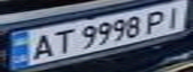8: (124, 12, 148, 39)
9: (75, 21, 100, 50), (93, 19, 115, 46), (109, 16, 130, 43)
A: (24, 30, 57, 61)
I: (160, 2, 190, 29)
P: (139, 8, 172, 35)
T: (45, 26, 78, 56)
